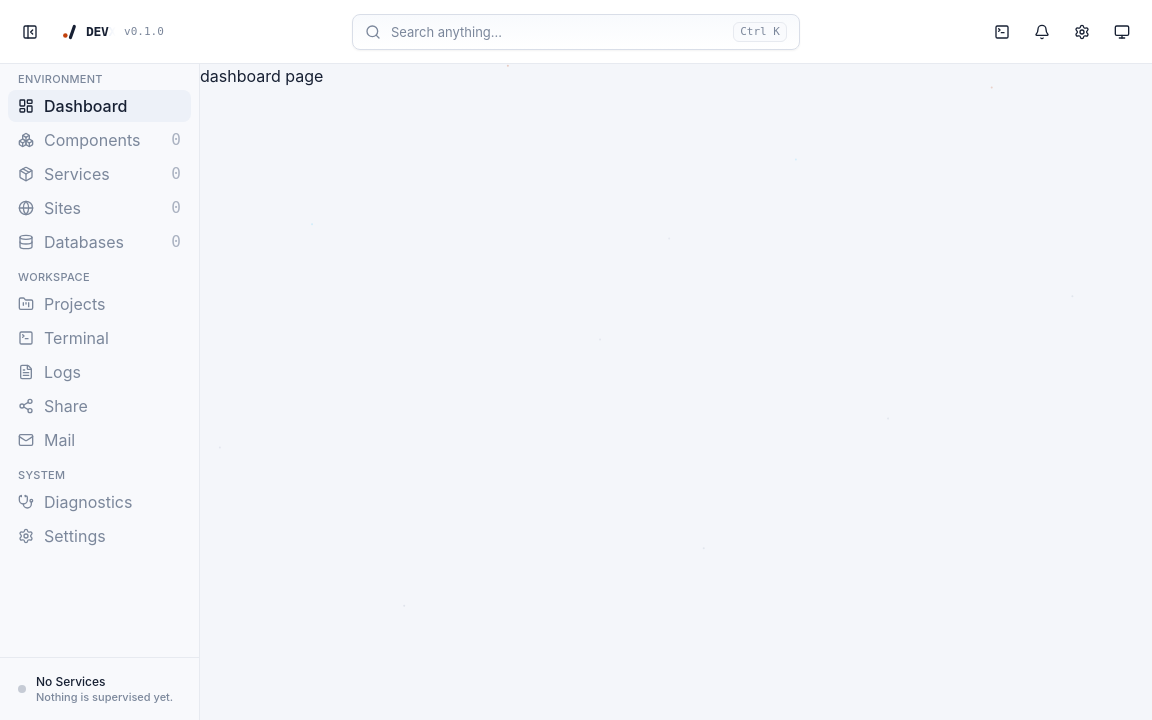
AppShell › navigates from the palette
The image size is (1152, 720).
Type keys "{Control>}k{/Control}"
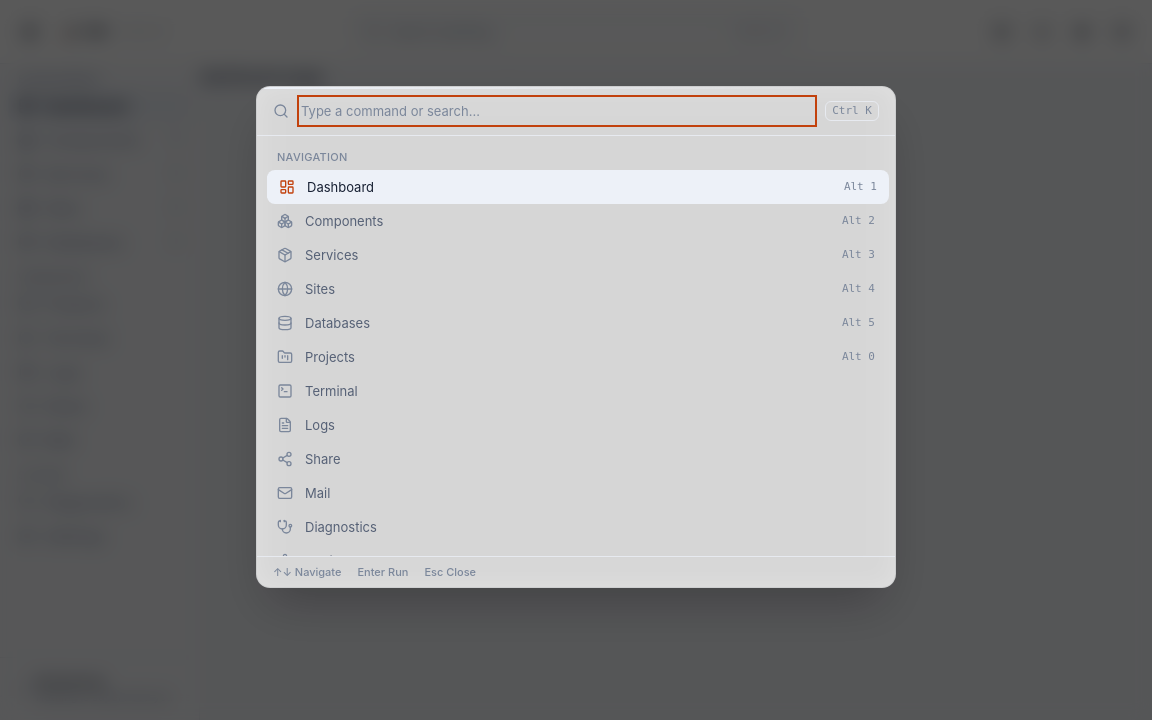
Type "sites" into the dropdown with placeholder "Type a command or search..." at point(557, 111), box [301,99,813,123]
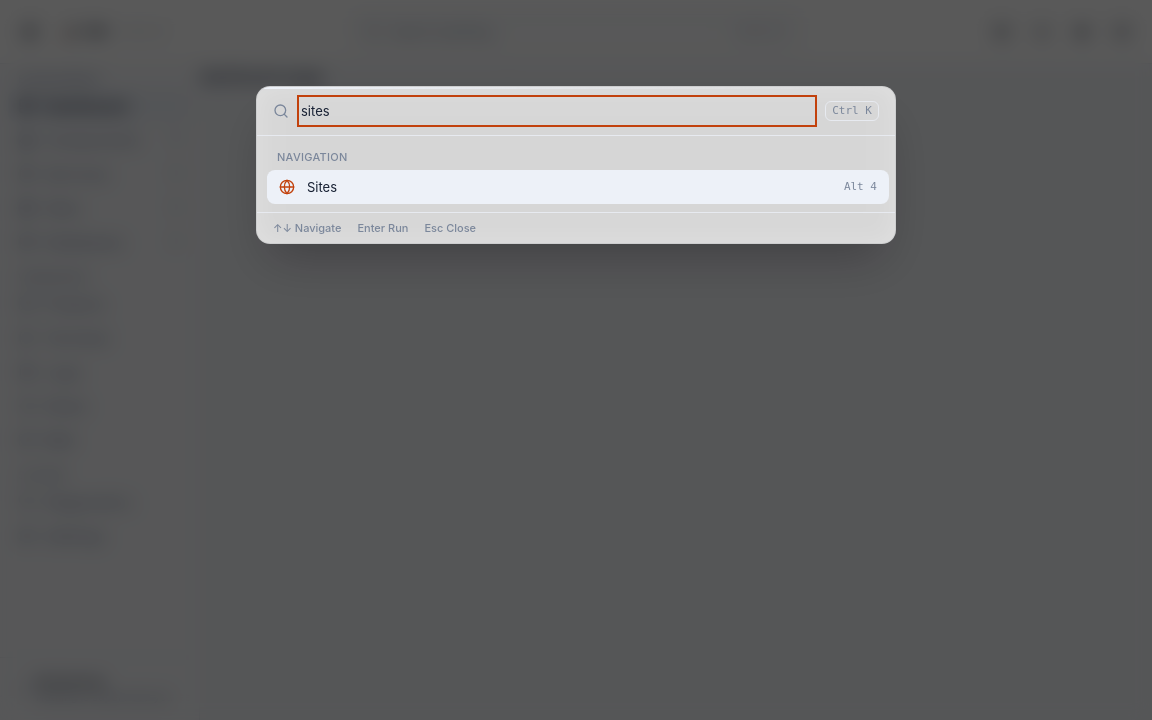
Press Enter
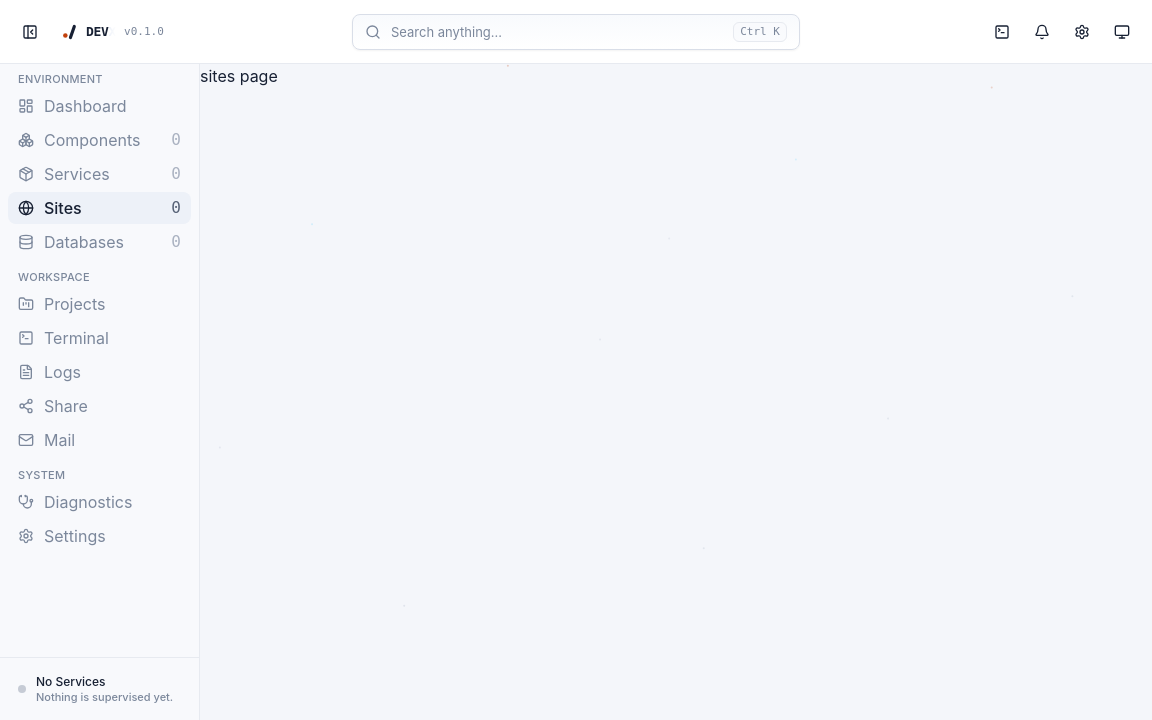
Check: the text "sites page" is shown, box [200,66,278,86]
